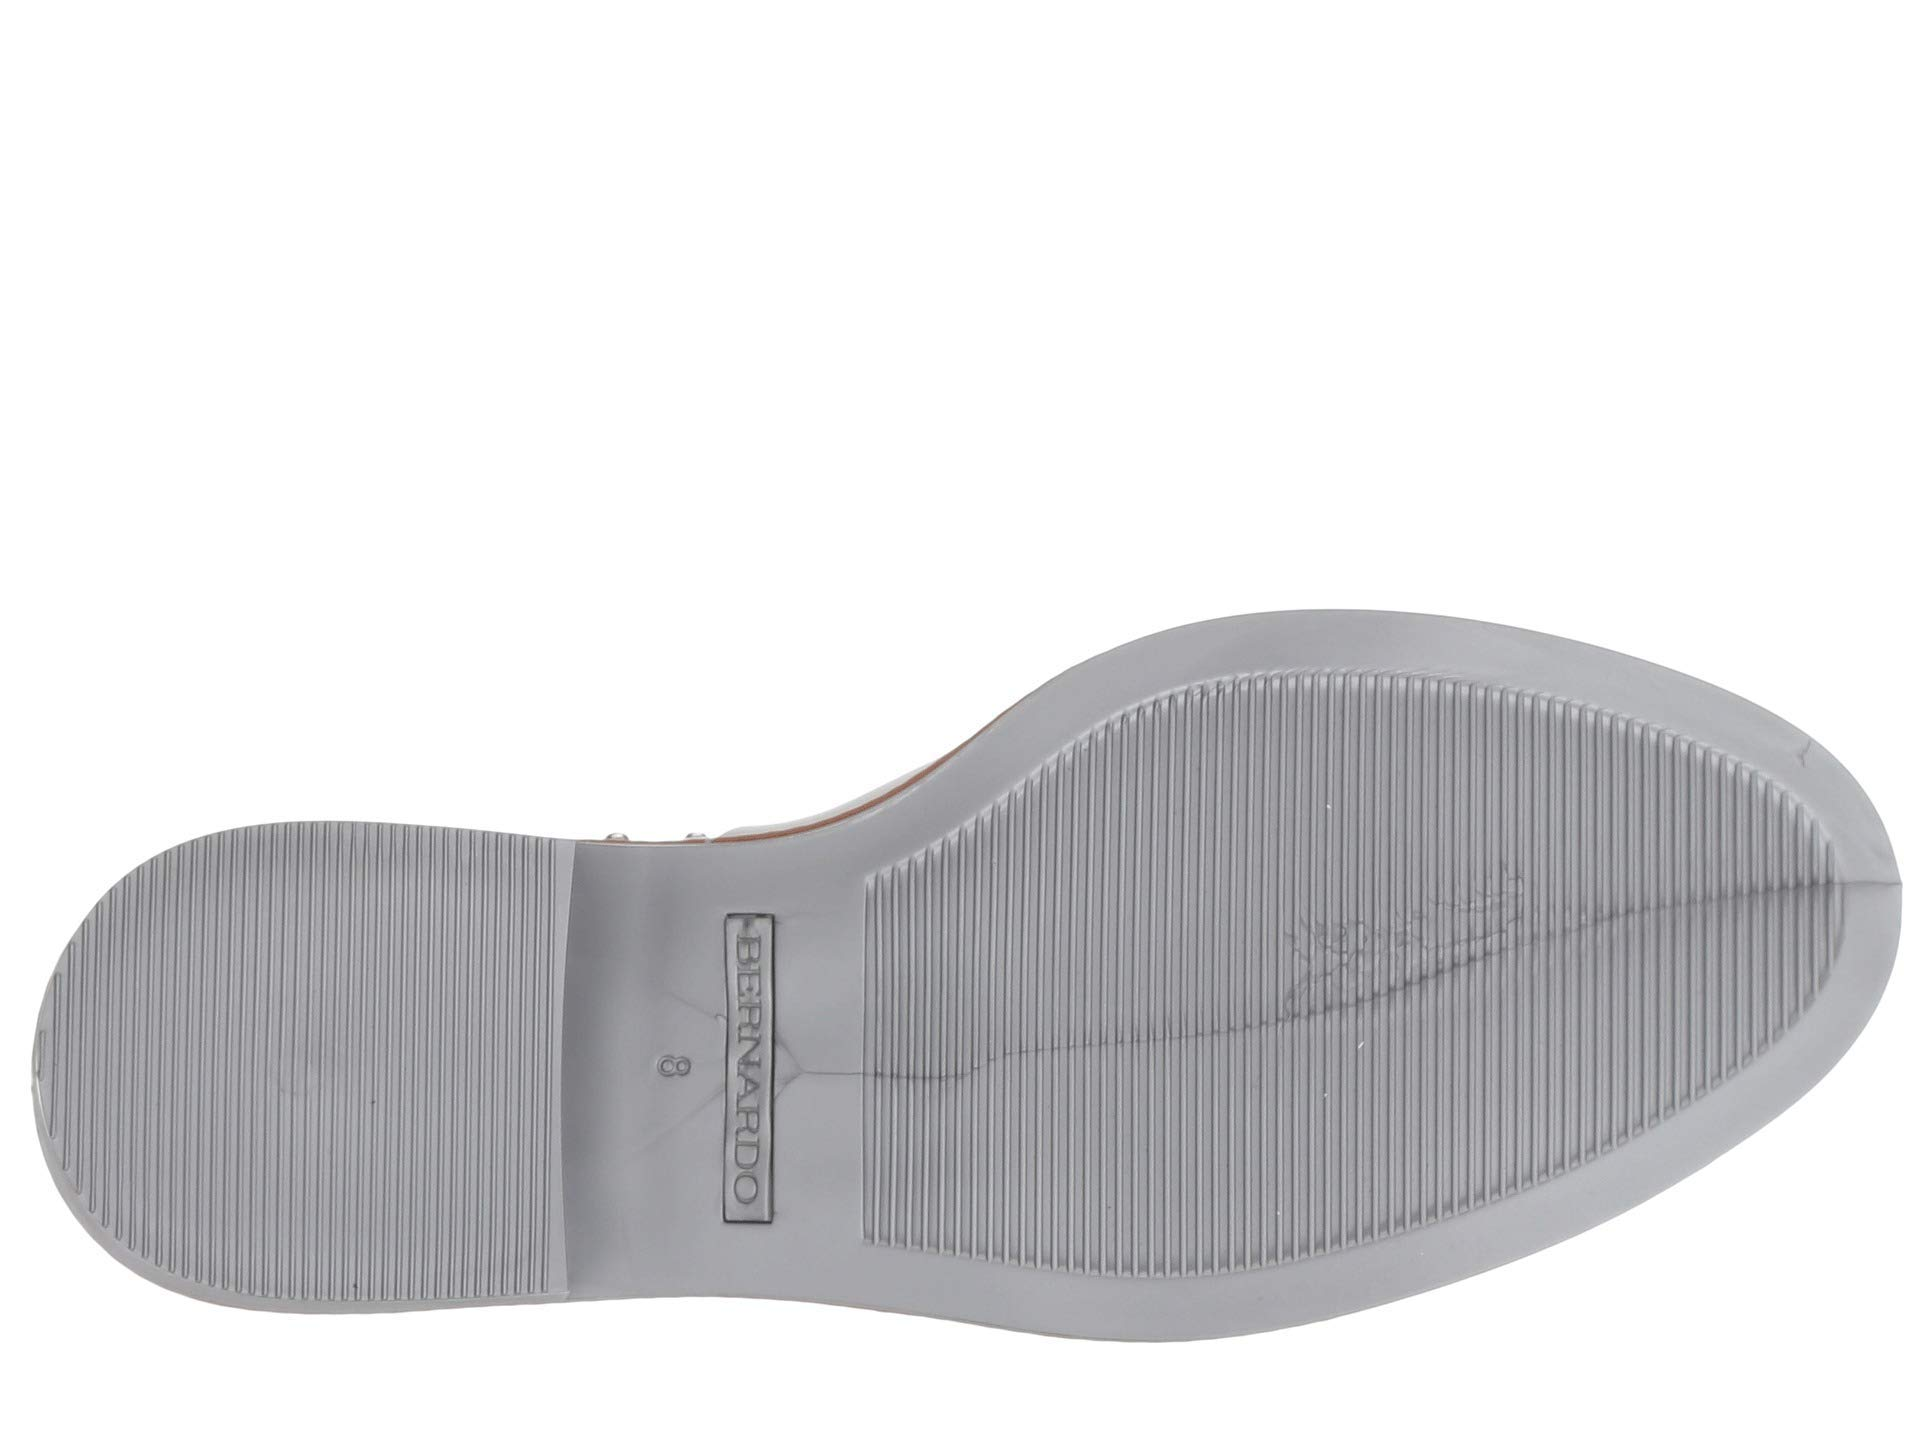line: (48, 830, 547, 1296)
